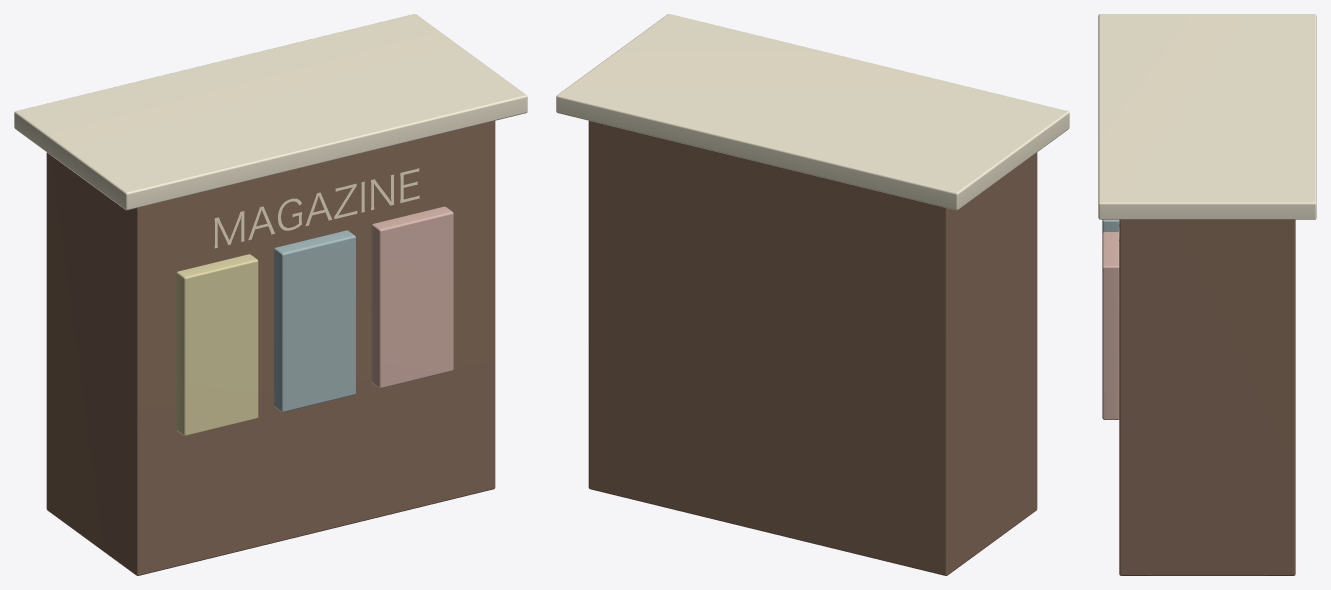
File: magazine.glb
The picture shows the model from 3 angles, left to right: view 1: azimuth 30°, elevation 25°; view 2: azimuth 150°, elevation 25°; view 3: azimuth 270°, elevation 25°; orthographic projection. The views are drawn at different scales.
Visible parts, largest first — view 1: Web | Interior/0103.001, Web | Interior/0104.001, Web | Interior/0107.001, Web | Interior/0105.001, Web | Interior/0106.001, Web | Interior/0108 | MAGAZINE.001; view 2: Web | Interior/0103.001, Web | Interior/0104.001; view 3: Web | Interior/0103.001, Web | Interior/0104.001, Web | Interior/0107.001.
Part boxes in pixels (x1,y1,x2,y2): Web | Interior/0103.001: (46,121,495,575); Web | Interior/0104.001: (14,14,527,210); Web | Interior/0107.001: (371,206,453,388); Web | Interior/0105.001: (176,254,258,435); Web | Interior/0106.001: (274,230,355,412); Web | Interior/0108 | MAGAZINE.001: (214,168,419,248); Web | Interior/0103.001: (588,121,1037,575); Web | Interior/0104.001: (556,14,1069,210); Web | Interior/0103.001: (1119,219,1295,575); Web | Interior/0104.001: (1098,14,1316,219); Web | Interior/0107.001: (1102,232,1119,419).
Bounding box in the file's own units: 1.4 × 1.32 × 0.68.
